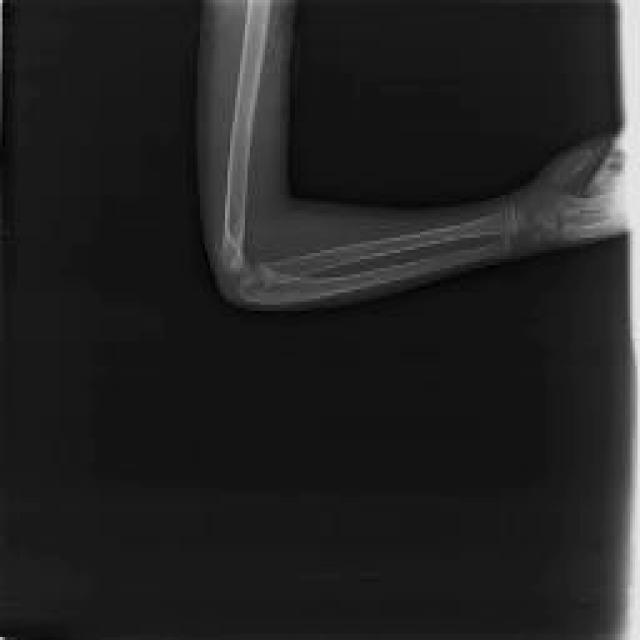normal: (208, 2, 626, 303)
